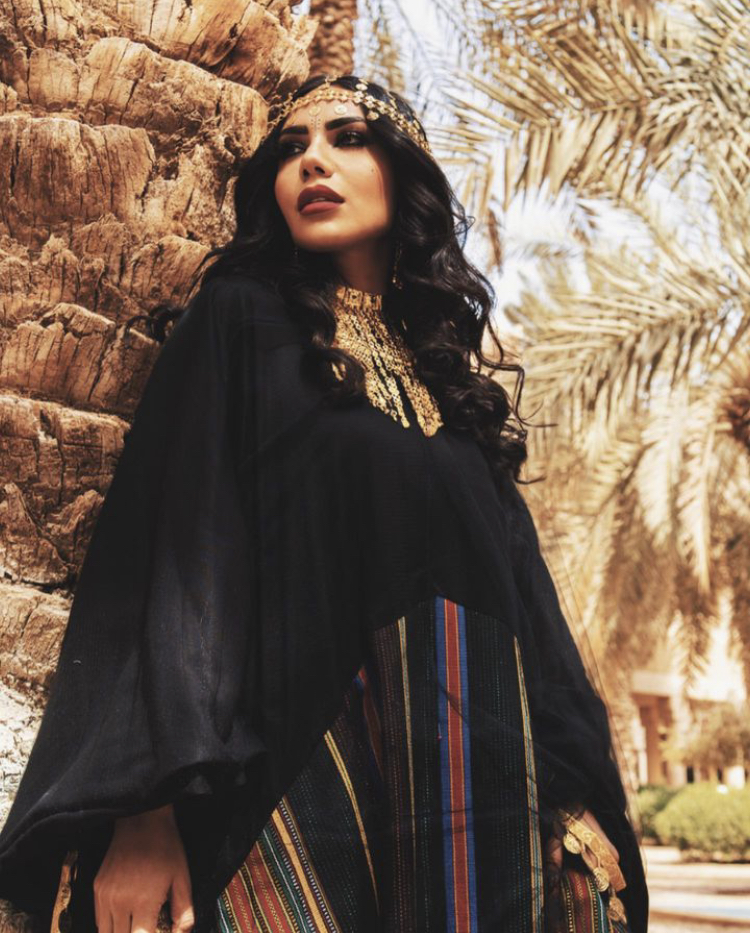Saudi_Founding_Day: (1, 67, 654, 933)
